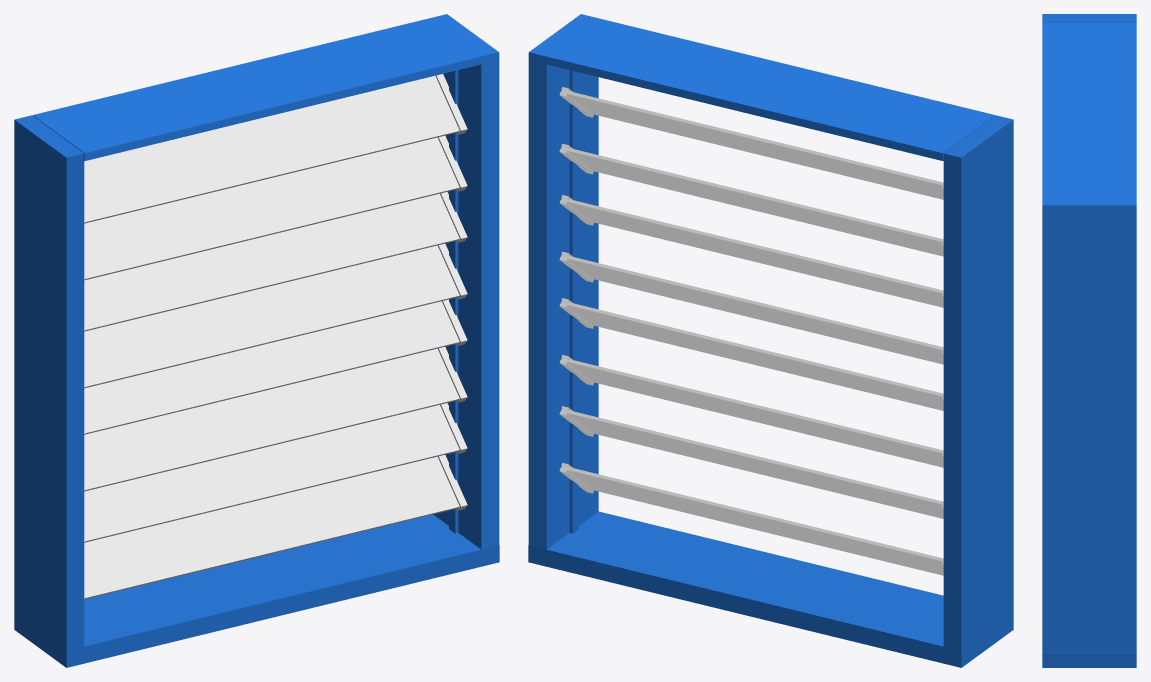
File: Window.fbx
3 views of the same model, side by side, from view 1: azimuth 30°, elevation 25°; view 2: azimuth 150°, elevation 25°; view 3: azimuth 270°, elevation 25° (orthographic). The views are drawn at different scales.
Visible parts, largest first — view 1: Cube.002; view 2: Cube.002; view 3: Cube.002.
Part boxes in pixels (<box>): Cube.002: <box>14,14,499,667</box>; Cube.002: <box>528,14,1013,667</box>; Cube.002: <box>1042,14,1136,667</box>.
Bounding box in the file's own units: 958 × 1078 × 200.
